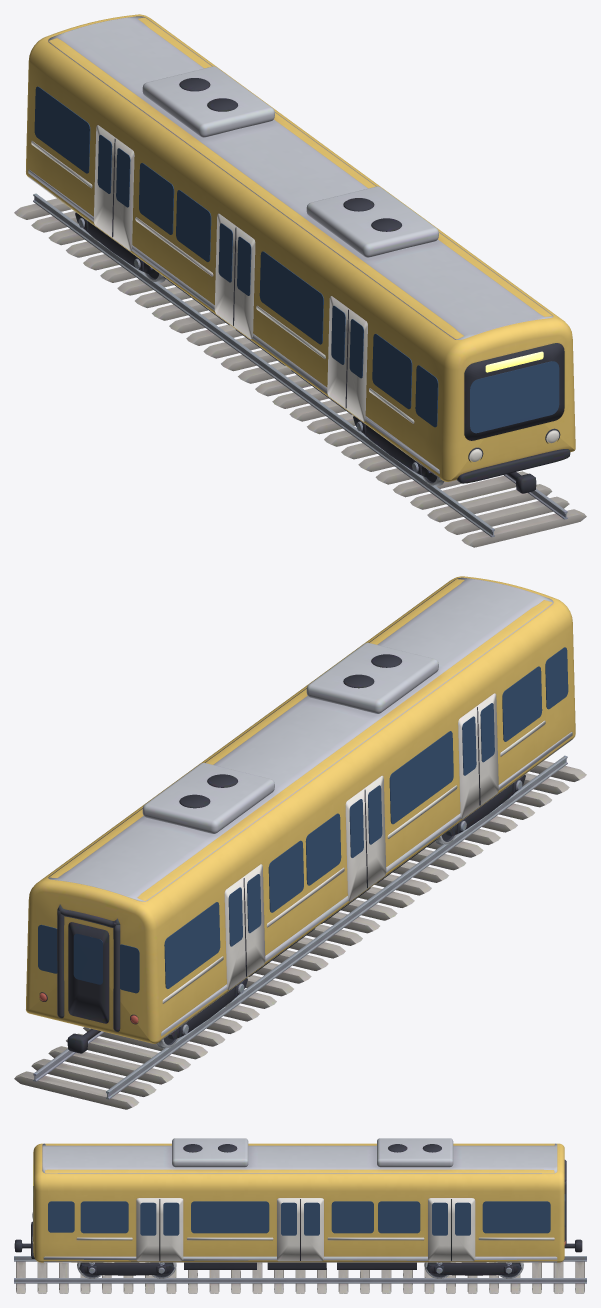
File: subway-car.glb
3 views of the same model, one above another, from view 1: azimuth 30°, elevation 25°; view 2: azimuth 150°, elevation 25°; view 3: azimuth 270°, elevation 25° (orthographic). The views are drawn at different scales.
Visible parts, largest first — view 1: subway-car_body, subway-car_windows; view 2: subway-car_body, subway-car_windows; view 3: subway-car_body, subway-car_windows.
Part boxes in pixels (box(x1,y1,x2,y2)): subway-car_body: box(14, 14, 586, 547); subway-car_windows: box(34, 86, 559, 433); subway-car_body: box(14, 576, 586, 1109); subway-car_windows: box(38, 647, 568, 993); subway-car_body: box(14, 1138, 586, 1293); subway-car_windows: box(33, 1186, 565, 1235).
Size of the model in its own units: 2.79 by 4.12 by 16.5.
31 materials, 1 textured.
